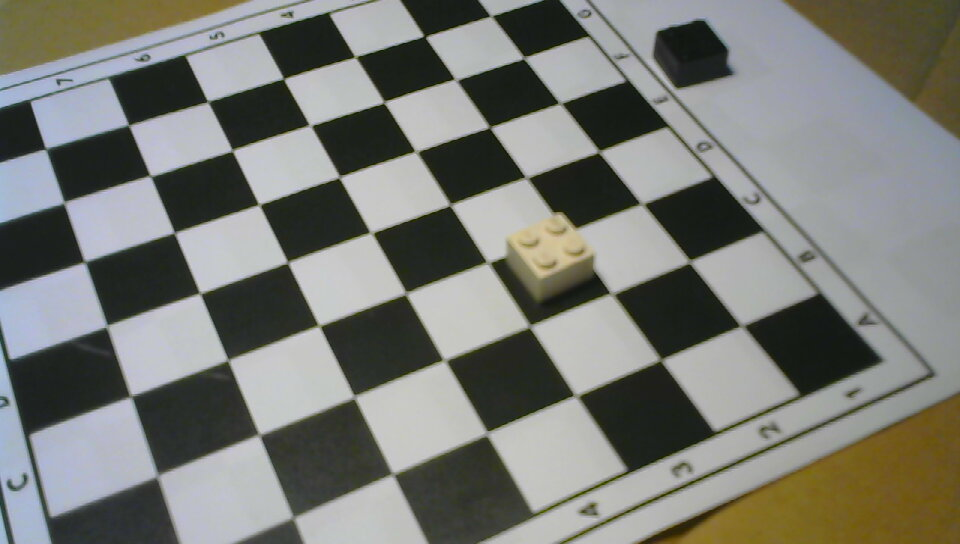bp: (654, 18, 729, 86)
wp: (508, 212, 594, 304)
